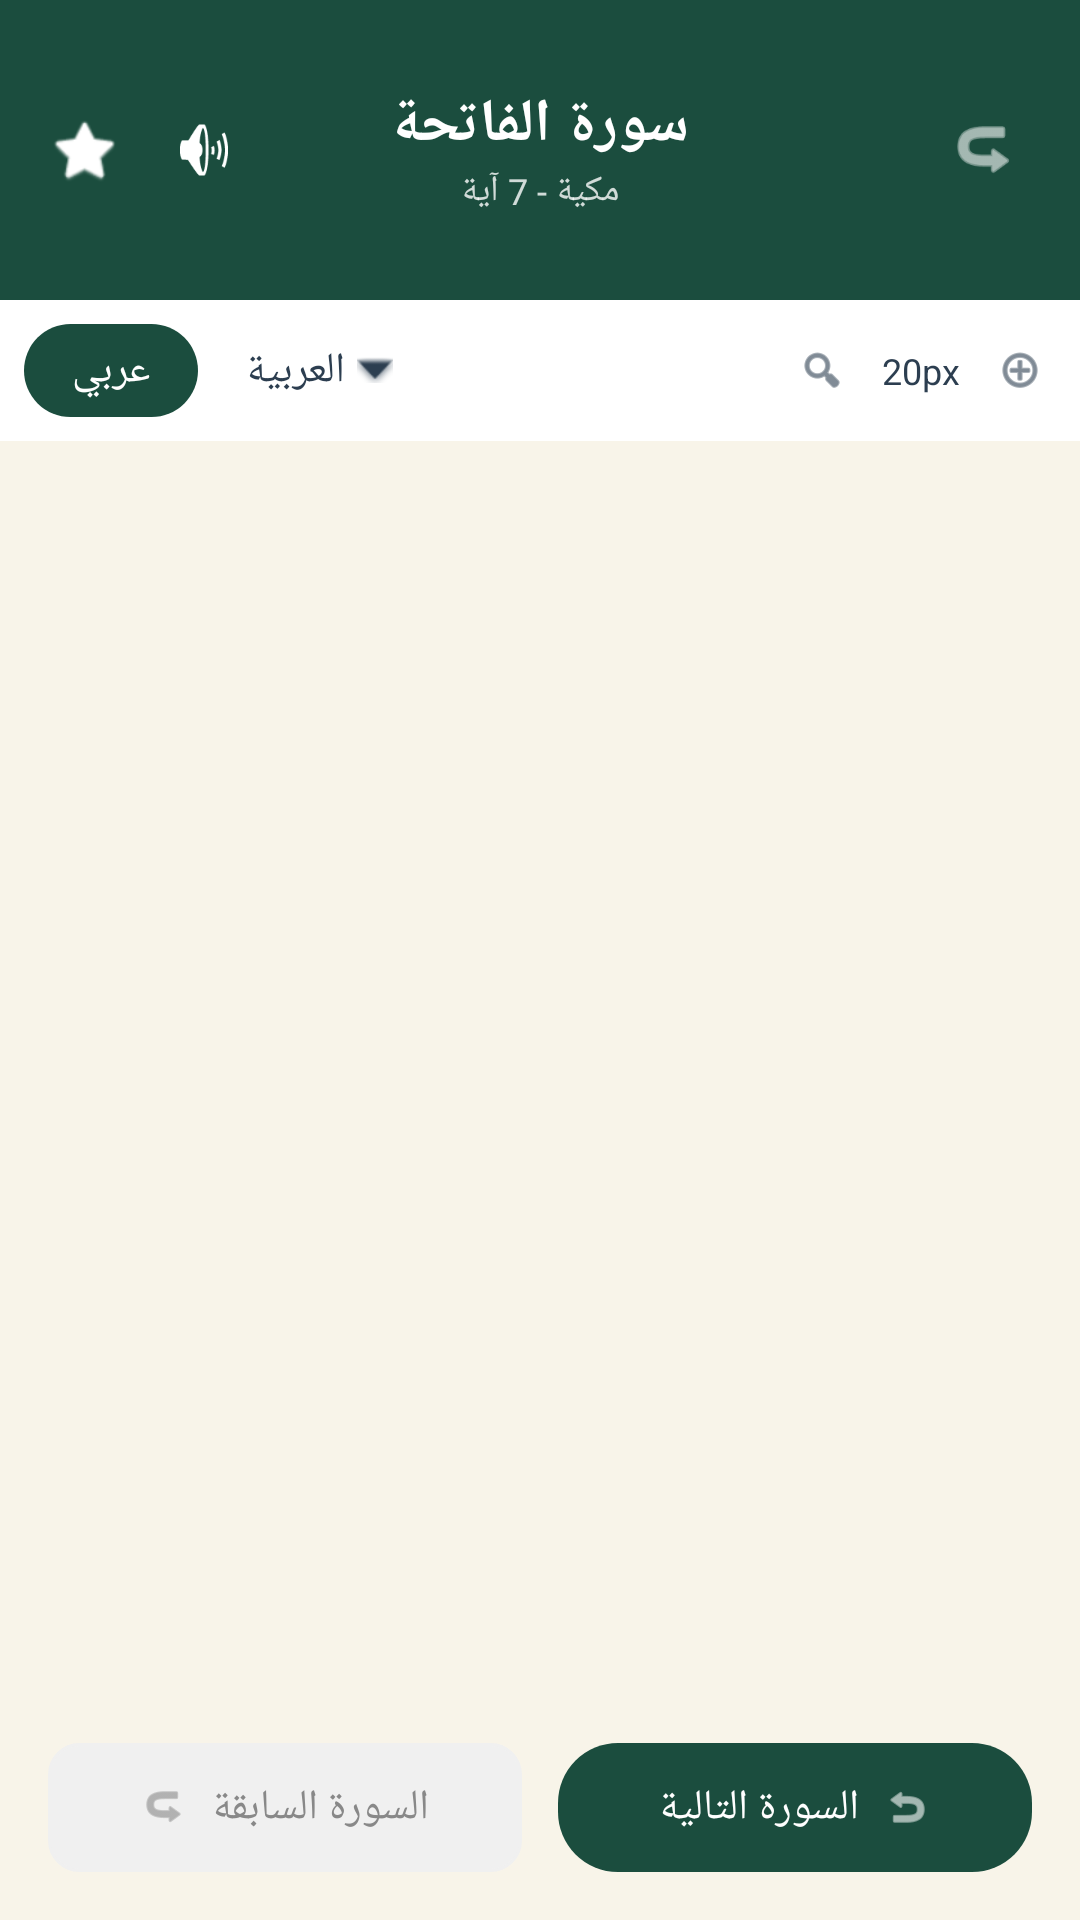

Screen size 1080 x 1920. Icon name, then its box in pixels as [x1=x1, y1=y1, x2=x2, y2=y2]:
add: [x1=1002, y1=352, x2=1038, y2=388]
arrow down float: [x1=357, y1=358, x2=393, y2=382]
search: [x1=804, y1=352, x2=840, y2=388]
